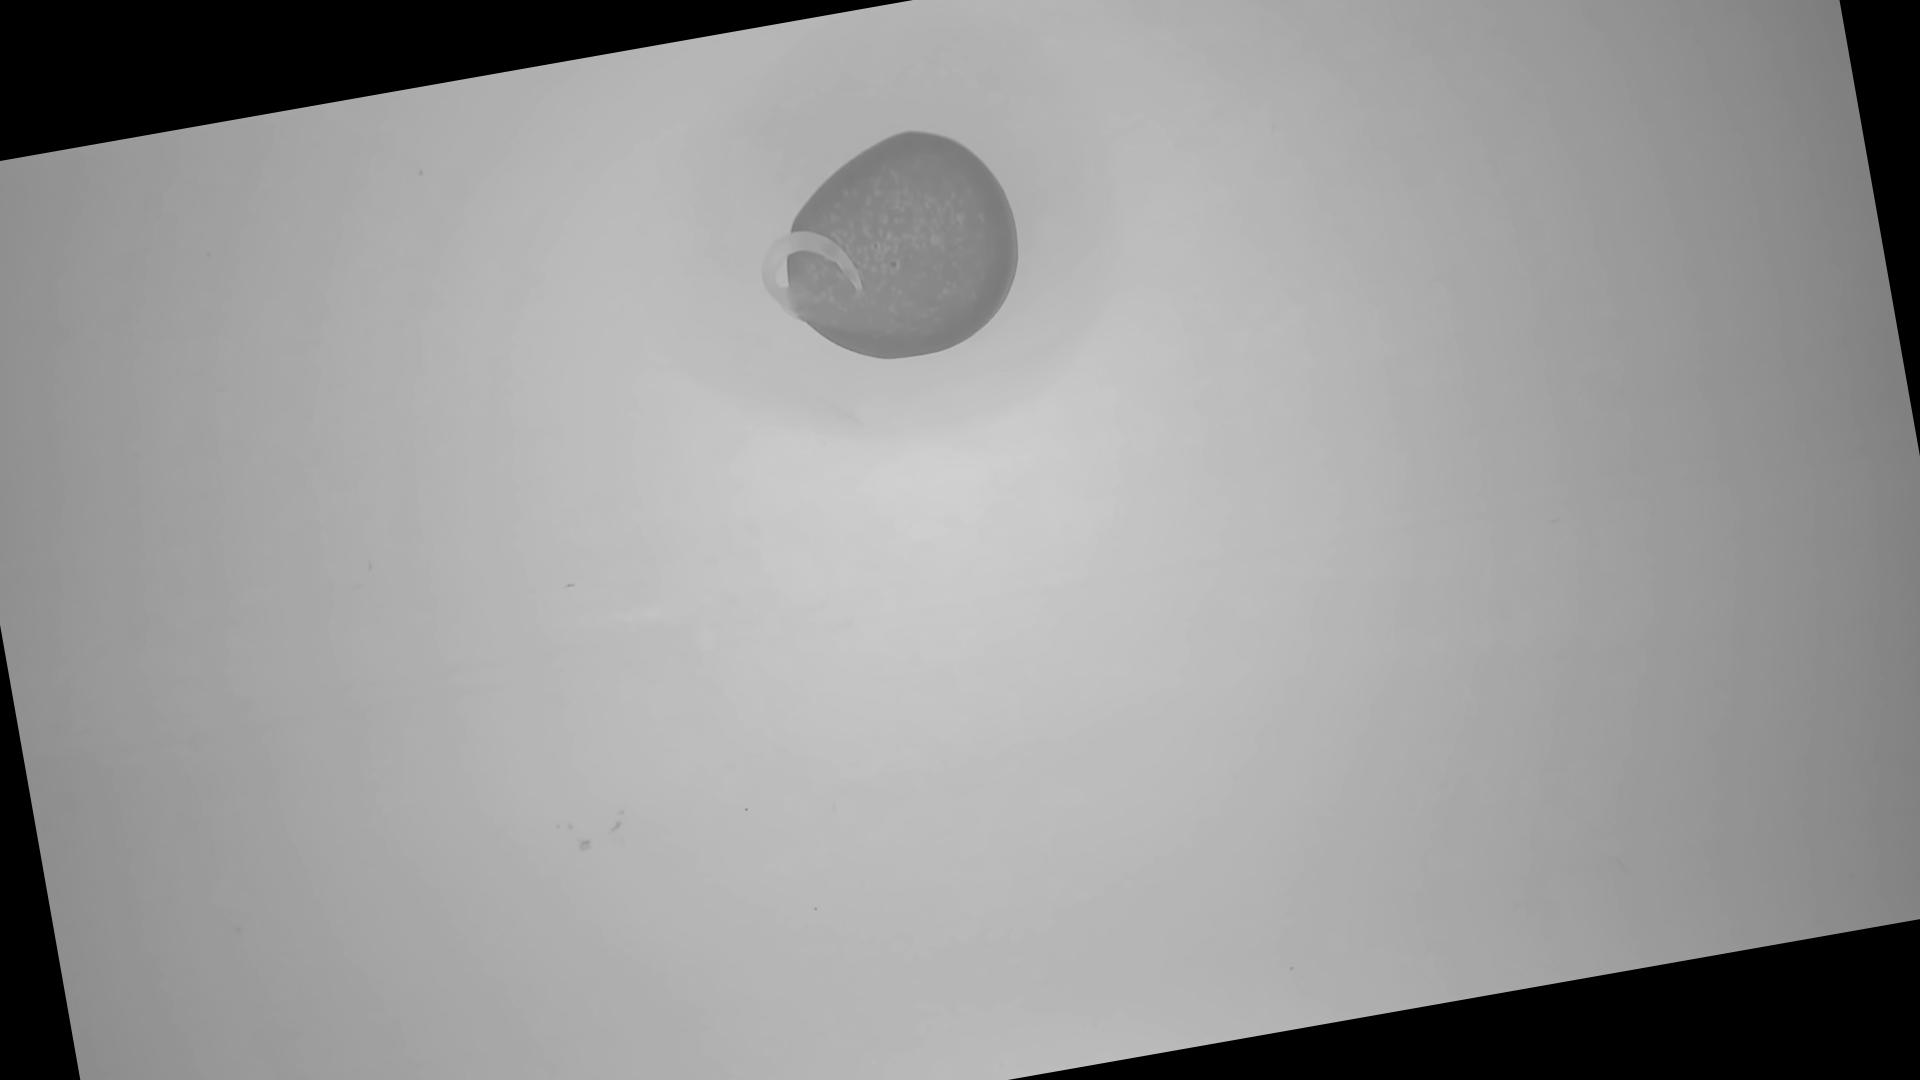abnormal: (741, 113, 1040, 386)
